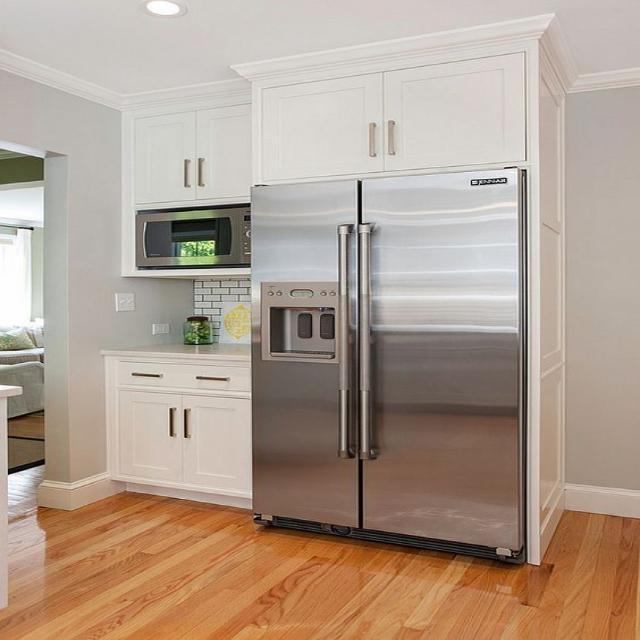obstacle: (248, 166, 534, 564), (101, 348, 253, 509), (0, 317, 44, 419)
